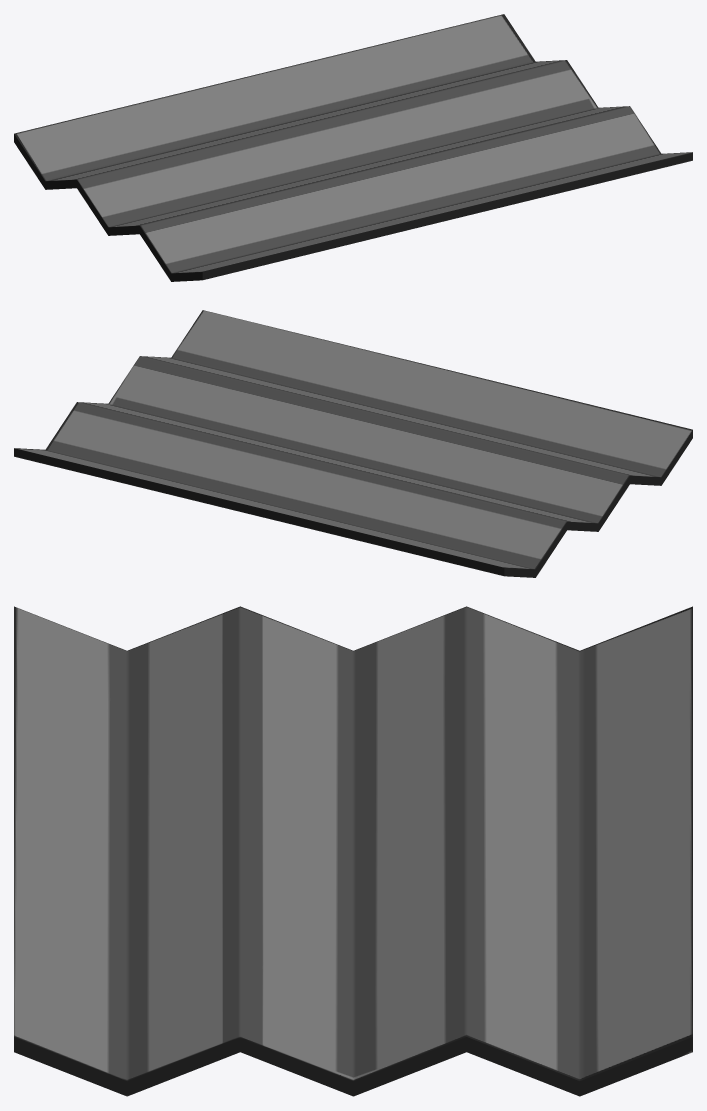
File: sheetMetal.fbx
3 renders of one model, top to bottom at view 1: azimuth 30°, elevation 25°; view 2: azimuth 150°, elevation 25°; view 3: azimuth 270°, elevation 25°, orthographic. The views are drawn at different scales.
Visible parts, largest first — view 1: sheet; view 2: sheet; view 3: sheet.
Boxes of the visible parts, bbox=[...] form: sheet: bbox=[14, 14, 692, 281]; sheet: bbox=[14, 310, 692, 577]; sheet: bbox=[14, 606, 692, 1096].
Bounding box in the file's own units: 15 × 0.9711 × 10.
Materials: 1 (1 with a texture image).
